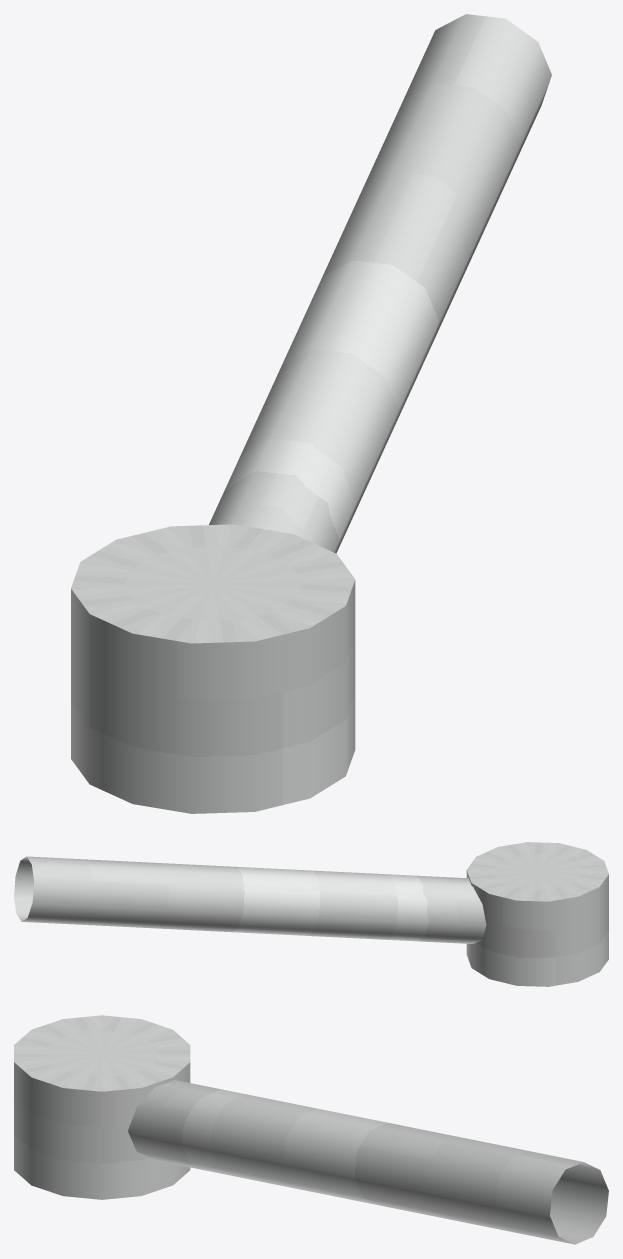
File: trusssignalarm_diagonal5_c1_thin.obj
The picture shows the model from 3 angles, top to bottom: view 1: azimuth 30°, elevation 25°; view 2: azimuth 150°, elevation 25°; view 3: azimuth 270°, elevation 25°; orthographic projection. The views are drawn at different scales.
Visible parts, largest first — view 1: trusssignalarm_diagonal5_c1_thin; view 2: trusssignalarm_diagonal5_c1_thin; view 3: trusssignalarm_diagonal5_c1_thin.
Boxes of the visible parts, <box> form: trusssignalarm_diagonal5_c1_thin: <box>71,14,551,813</box>; trusssignalarm_diagonal5_c1_thin: <box>14,842,608,986</box>; trusssignalarm_diagonal5_c1_thin: <box>14,1015,608,1244</box>.
Size of the model in its own units: 1.88 by 0.678 by 1.87.
